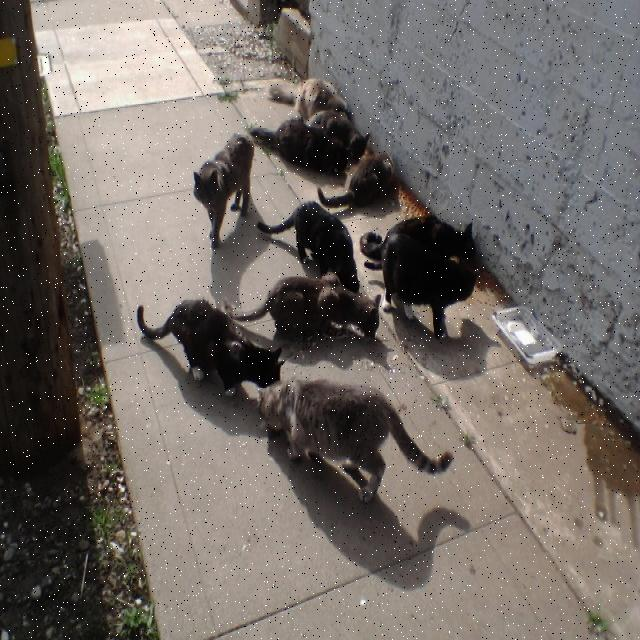cat: (260, 378, 452, 501), (138, 300, 281, 394), (225, 273, 381, 339), (381, 235, 476, 338), (258, 202, 359, 291), (194, 133, 254, 248), (250, 118, 348, 172), (360, 215, 473, 261), (318, 153, 394, 207), (306, 110, 369, 162), (295, 78, 350, 121)
